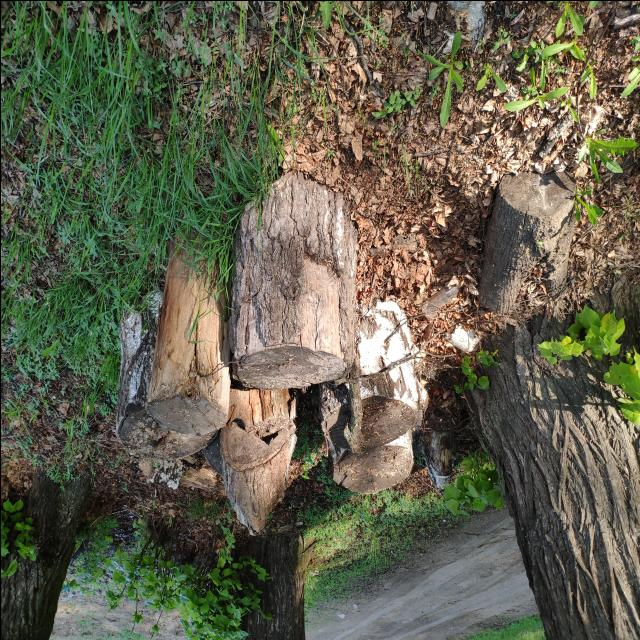lixo domiciliar: (422, 278, 461, 316), (446, 324, 478, 354)
restos de madeira: (228, 190, 346, 387), (116, 280, 225, 456), (478, 169, 584, 313), (328, 292, 424, 448), (220, 384, 300, 534), (325, 398, 415, 496), (423, 406, 463, 484), (142, 460, 218, 488)
